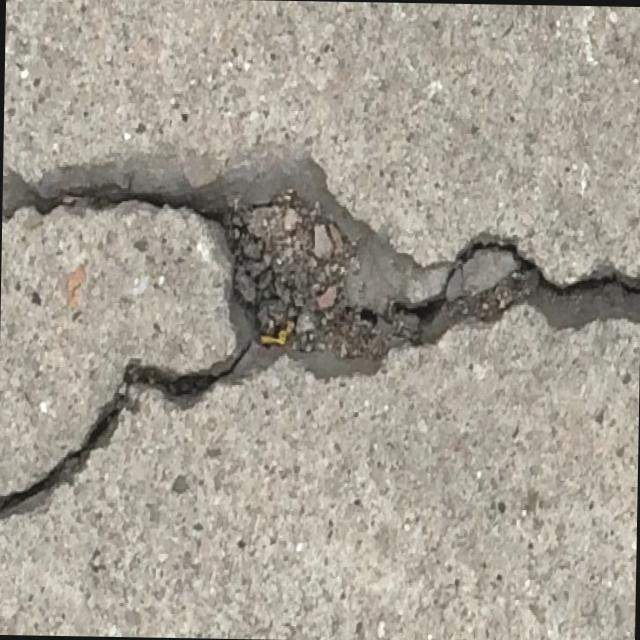crack: (0, 151, 234, 523)
spall: (231, 146, 638, 394)
